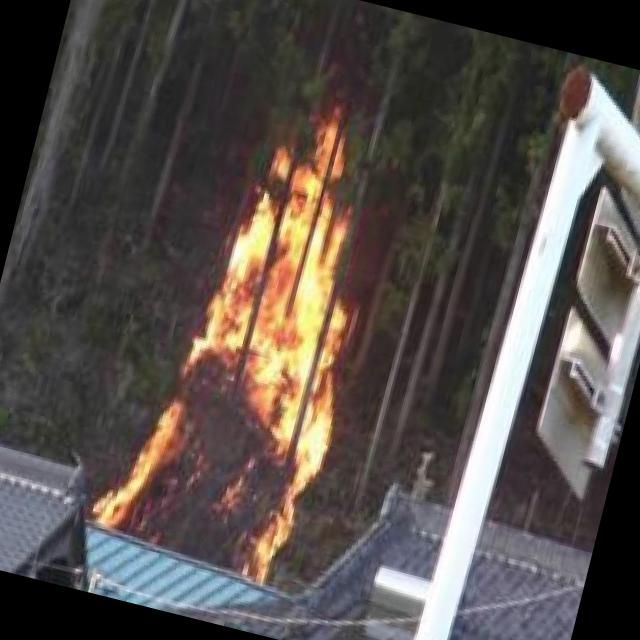Fire: (78, 57, 429, 592)
